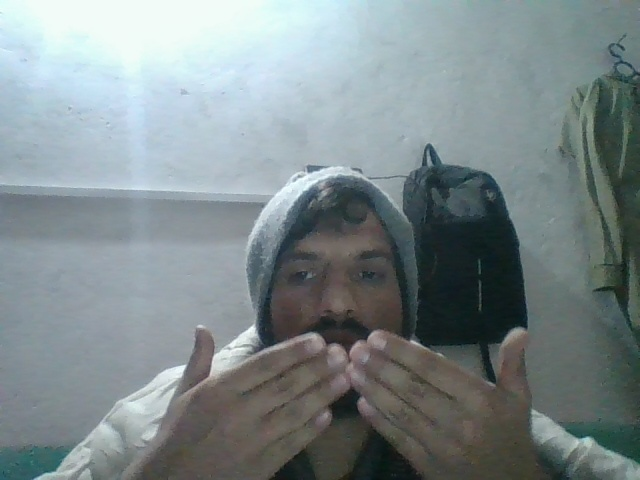ThankYou: (140, 324, 545, 478)
